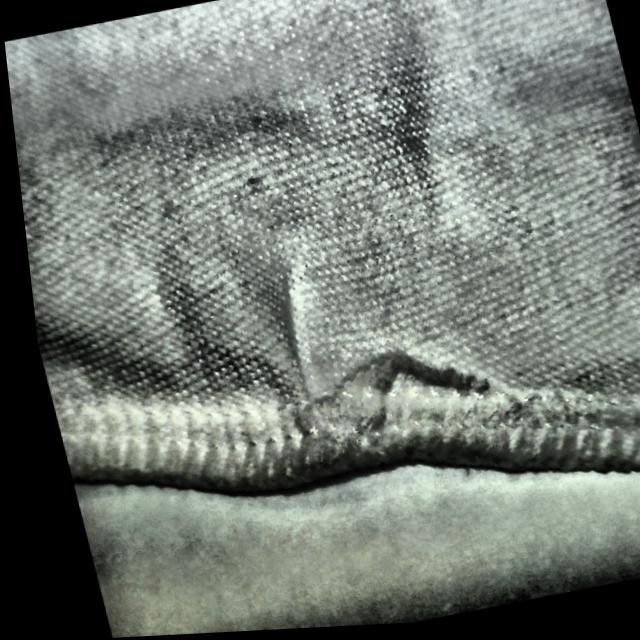seam: (221, 238, 509, 505)
